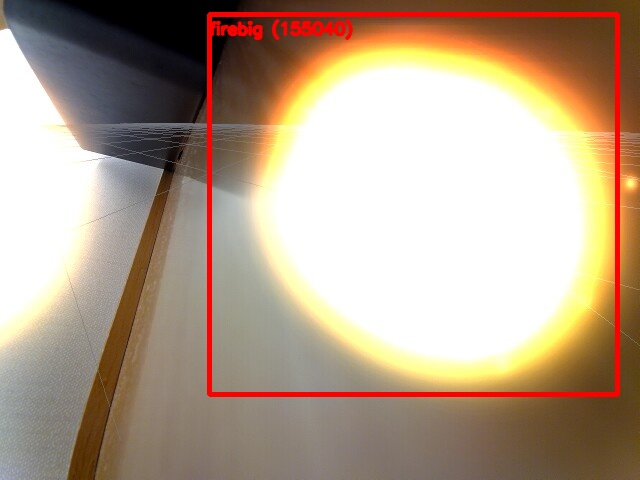firebig: (209, 14, 617, 394)
